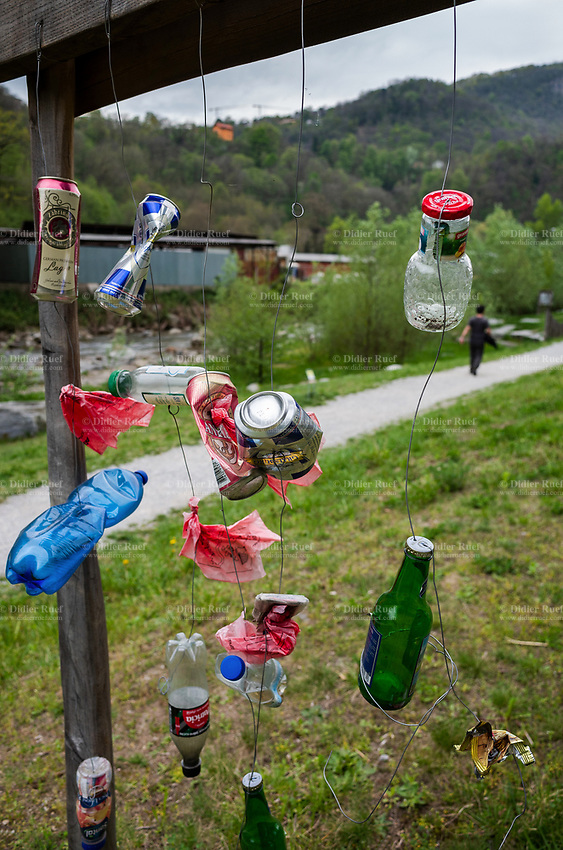bottle: (361, 535, 437, 715), (237, 771, 289, 850)
can: (92, 184, 180, 320), (187, 365, 267, 501), (26, 167, 90, 309), (236, 383, 319, 479)
plastic_bottle: (6, 463, 155, 603), (153, 623, 217, 787)
